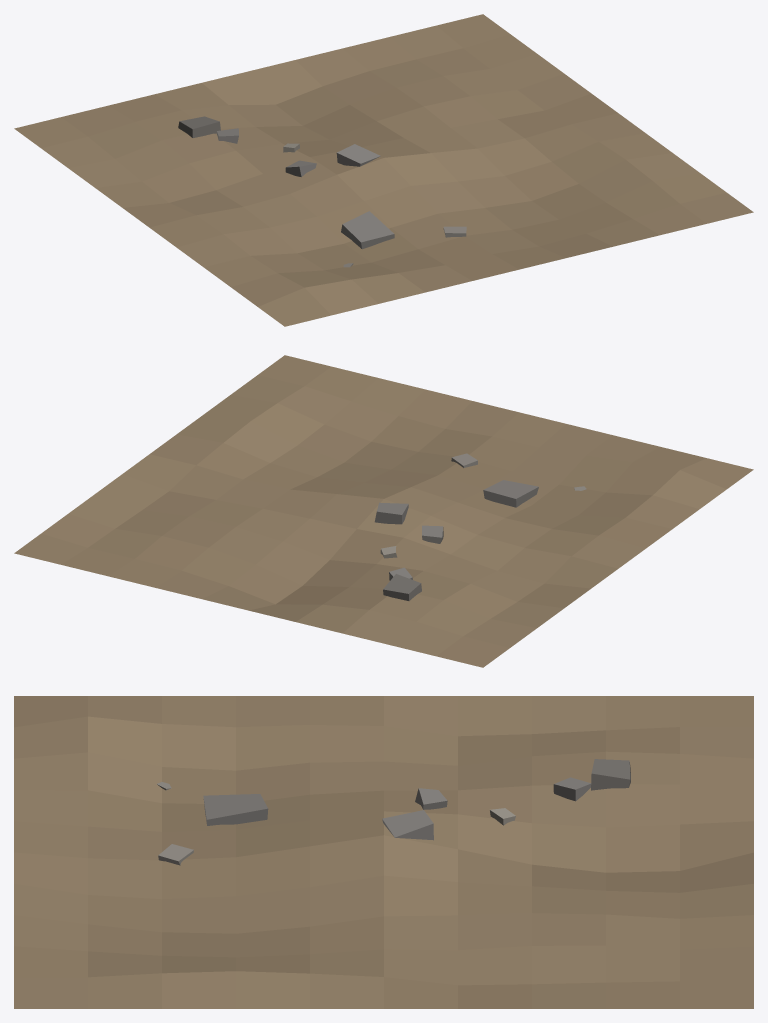
The model's file is dirt_lowpoly_b.glb.
The picture shows the model from 3 angles, top to bottom: view 1: azimuth 30°, elevation 25°; view 2: azimuth 150°, elevation 25°; view 3: azimuth 270°, elevation 25°; orthographic projection. The views are drawn at different scales.
Parts seen in each view (by area): view 1: DirtTile; view 2: DirtTile; view 3: DirtTile.
Part boxes in pixels (x1,y1,x2,y2): DirtTile: (14, 14, 753, 326); DirtTile: (14, 355, 753, 667); DirtTile: (14, 696, 753, 1008).
Bounding box in the file's own units: 1 × 0.0917 × 1.
